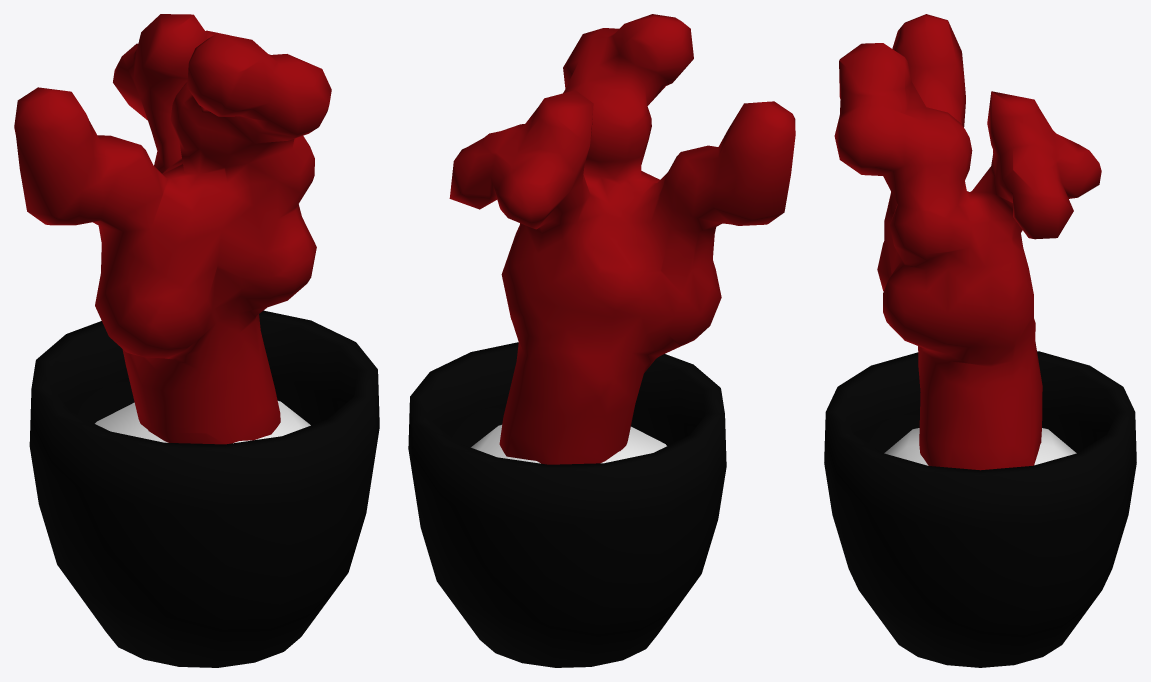
The model's file is SmallRedPlant.glb.
3 renders of one model, left to right at view 1: azimuth 30°, elevation 25°; view 2: azimuth 150°, elevation 25°; view 3: azimuth 270°, elevation 25°, orthographic. The views are drawn at different scales.
Visible parts, largest first — view 1: SmallRedPlant; view 2: SmallRedPlant; view 3: SmallRedPlant.
Part boxes in pixels (x1,y1,x2,y2): SmallRedPlant: (14,14,379,667); SmallRedPlant: (408,14,795,667); SmallRedPlant: (824,14,1136,667).
Bounding box in the file's own units: 0.736 × 1.23 × 0.603.
